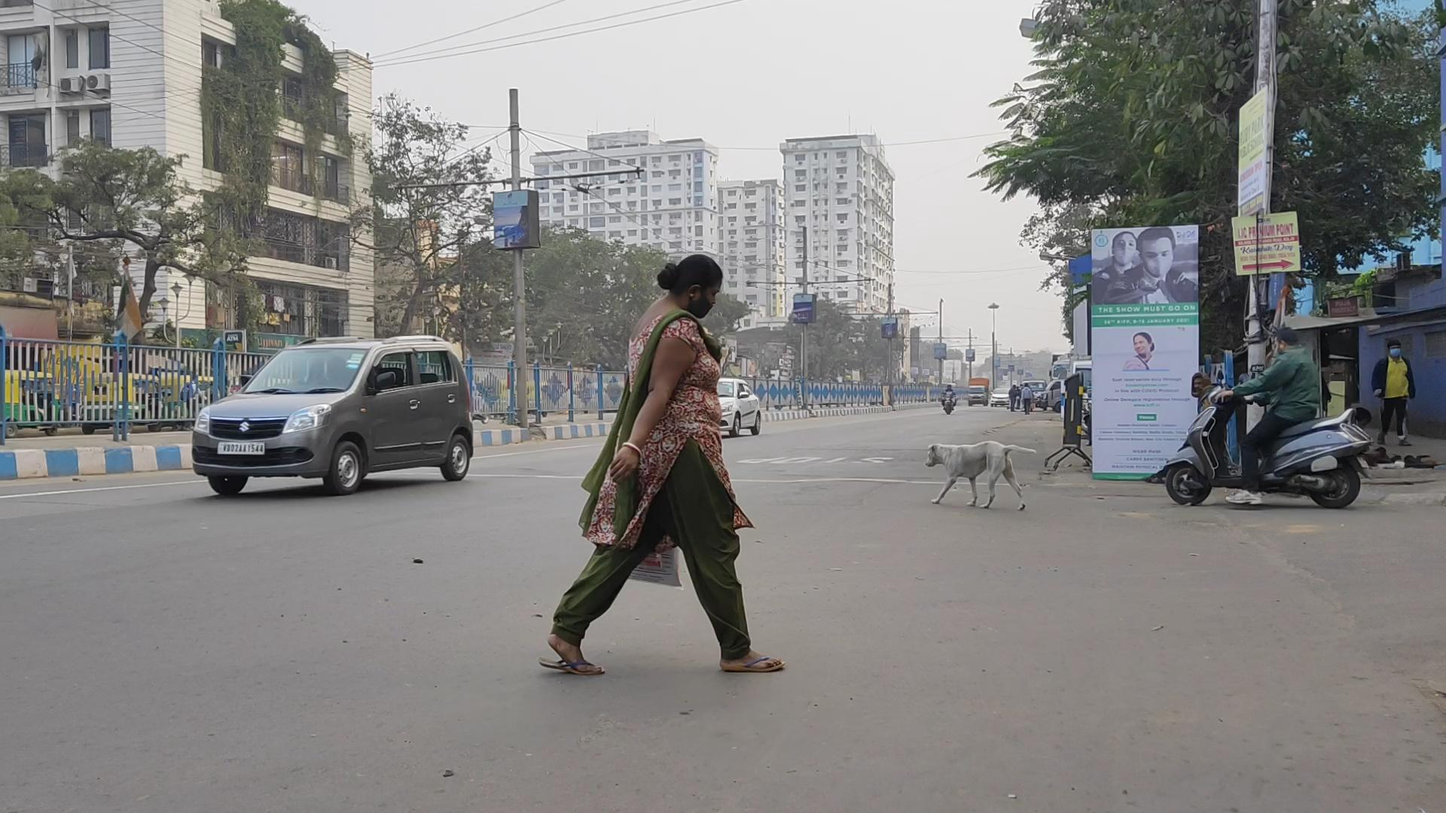bike: (1164, 327, 1374, 509), (941, 384, 956, 415)
car: (193, 333, 474, 495), (712, 378, 761, 437), (1020, 379, 1048, 411), (990, 388, 1011, 408)
van: (968, 377, 990, 406)
